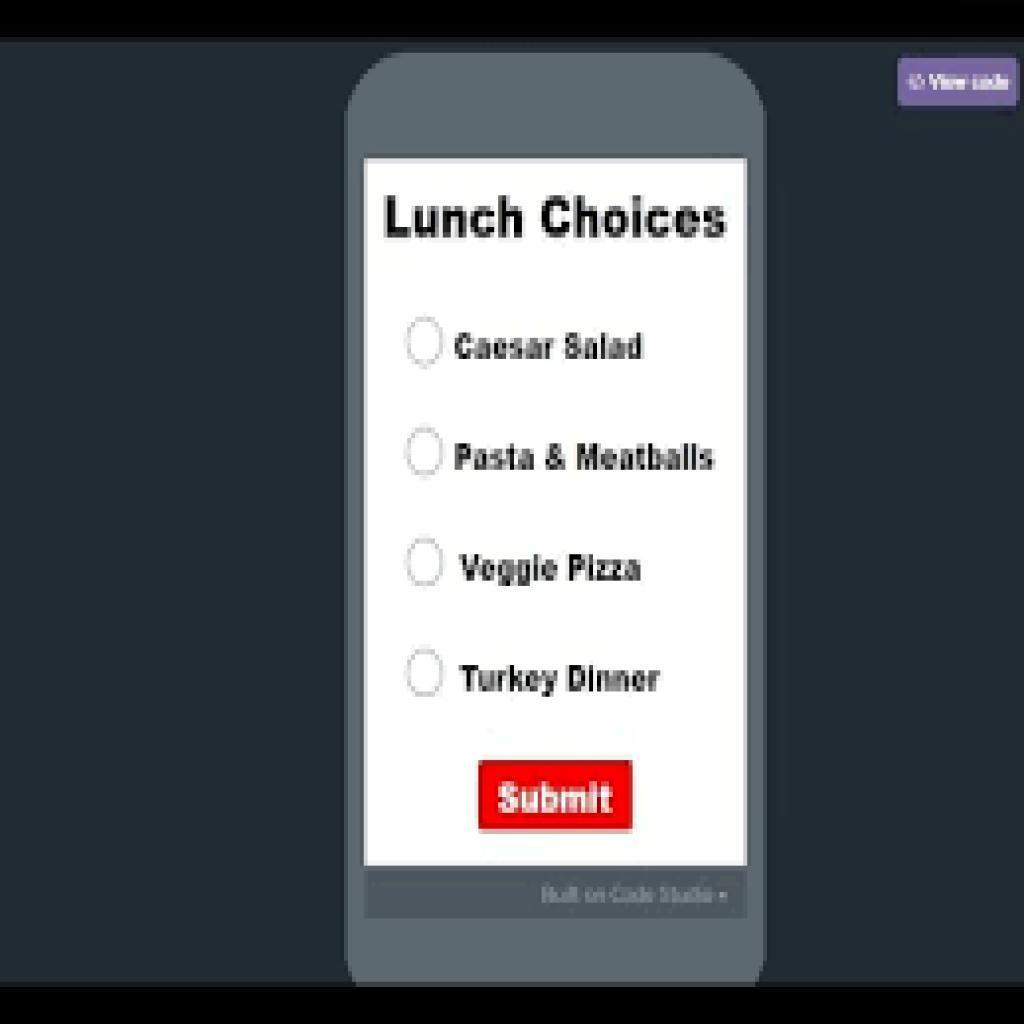button: (479, 761, 633, 832), (898, 58, 1019, 109)
radio: (404, 648, 446, 699), (407, 316, 444, 371), (408, 429, 444, 476), (409, 537, 442, 588)
